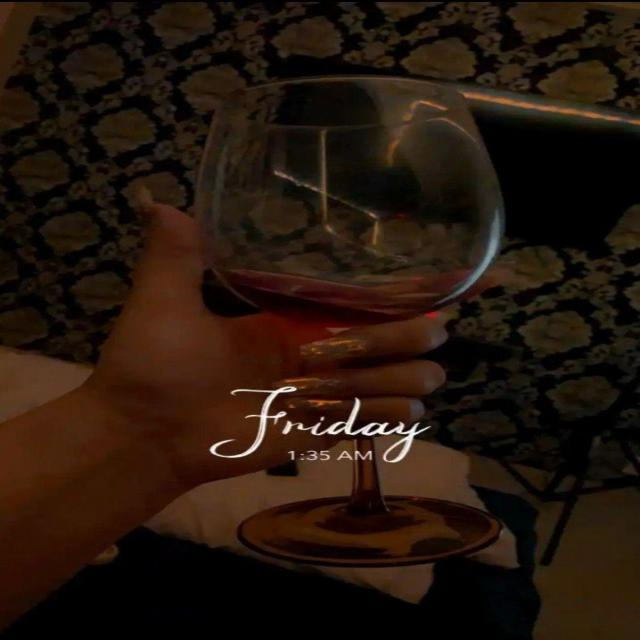glass-wine: (190, 74, 520, 572)
